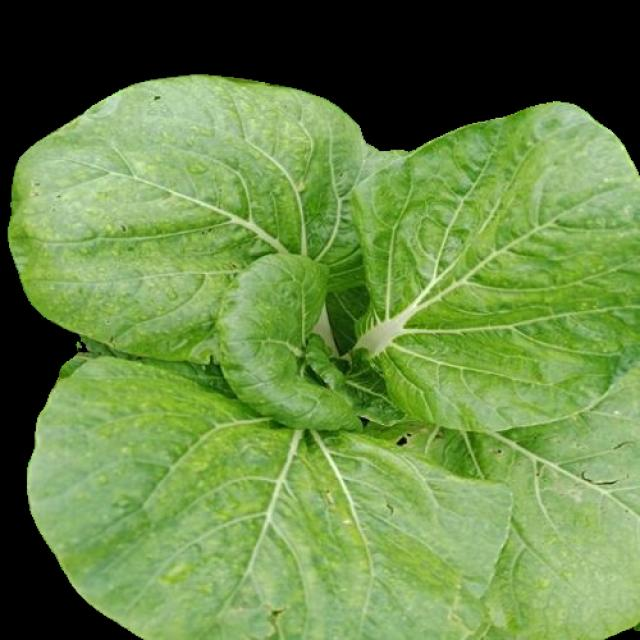mature: (9, 73, 640, 636)
unhealthy: (27, 368, 509, 638), (352, 92, 640, 425), (12, 74, 348, 358), (397, 371, 640, 640)
